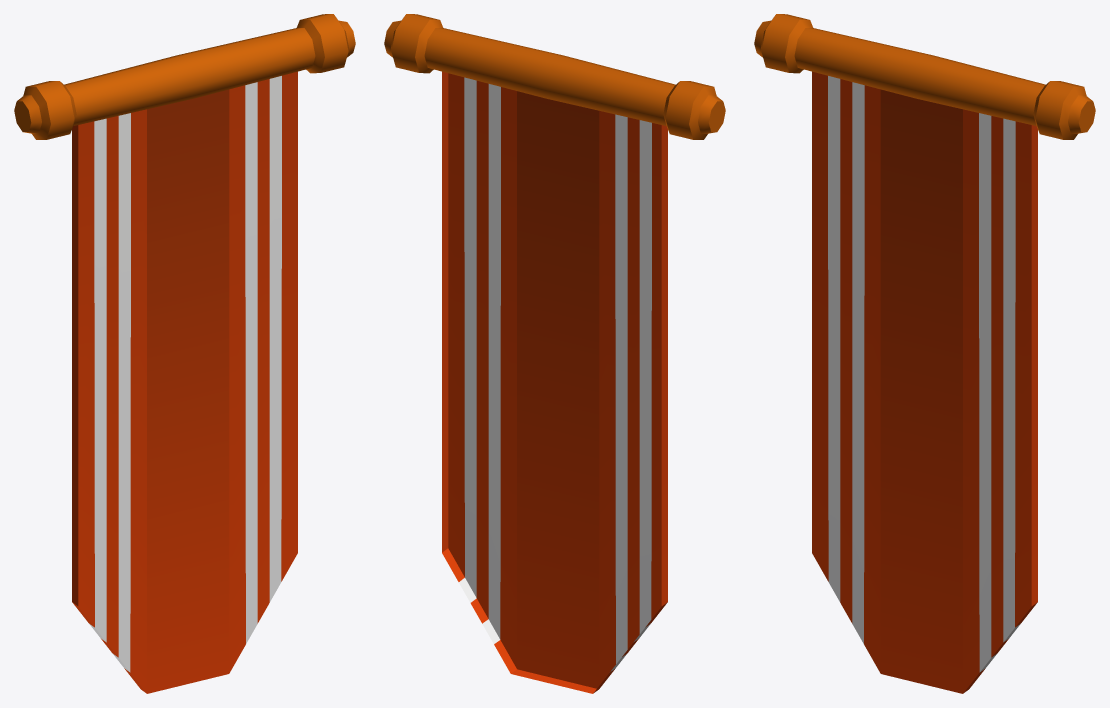
The model's file is Banner_01.glb.
3 renders of one model, left to right at view 1: azimuth 30°, elevation 25°; view 2: azimuth 150°, elevation 25°; view 3: azimuth 330°, elevation 25°, orthographic.
Parts seen in each view (by area): view 1: Banner_01; view 2: Banner_01; view 3: Banner_01.
Part boxes in pixels (x1=…): Banner_01: x1=14, y1=14, x2=355, y2=693; Banner_01: x1=384, y1=14, x2=725, y2=693; Banner_01: x1=754, y1=14, x2=1095, y2=693.
Bounding box in the file's own units: 1.7 × 3.17 × 0.2685.
1 material, 1 textured.
